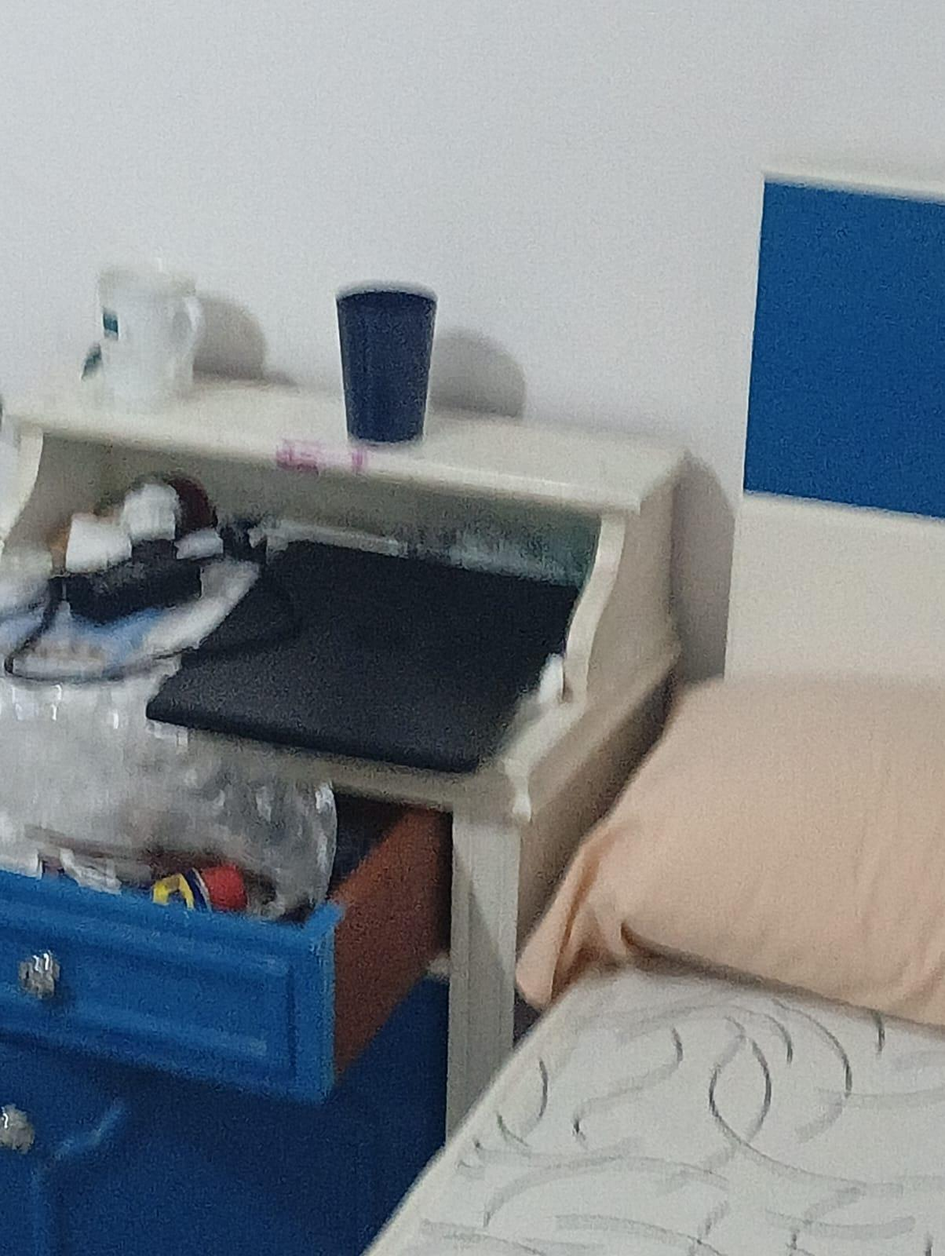cup: (337, 285, 436, 442), (98, 268, 202, 407)
